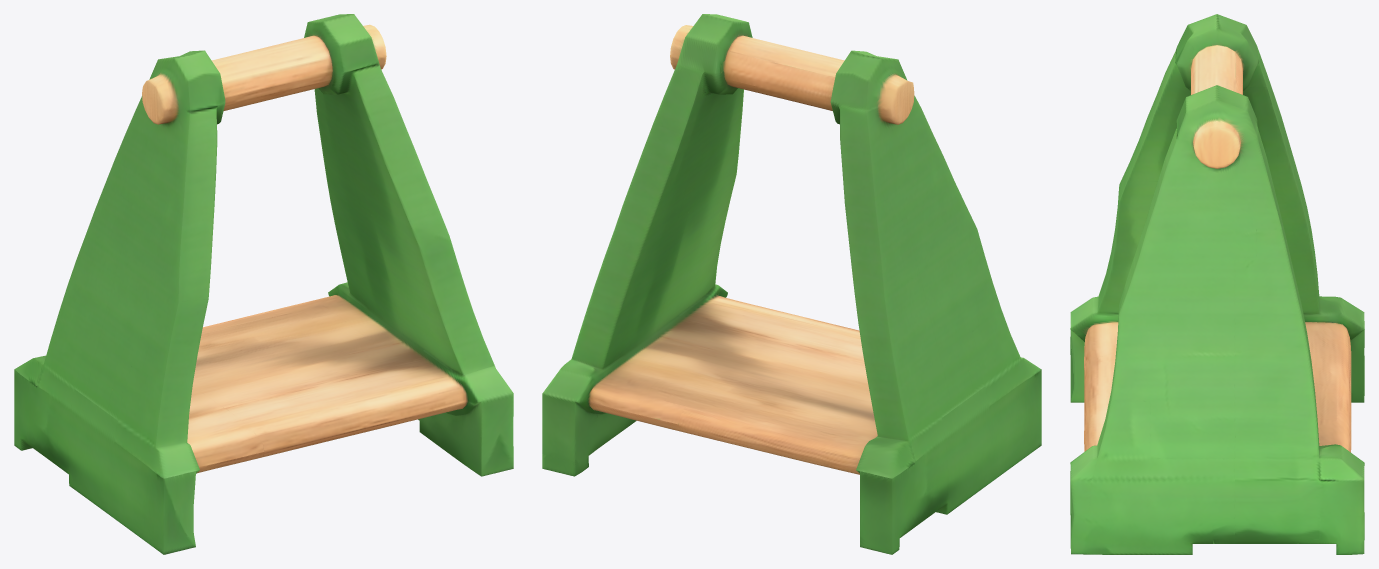
The model's file is base_basic_shaded.fbx.
3 renders of one model, left to right at view 1: azimuth 30°, elevation 25°; view 2: azimuth 150°, elevation 25°; view 3: azimuth 270°, elevation 25°, orthographic.
Parts seen in each view (by area): view 1: model; view 2: model; view 3: model.
Part boxes in pixels (x1,y1,x2,y2): model: [14, 14, 513, 554]; model: [542, 14, 1041, 554]; model: [1070, 14, 1364, 554].
Size of the model in its own units: 161 by 184 by 118.
